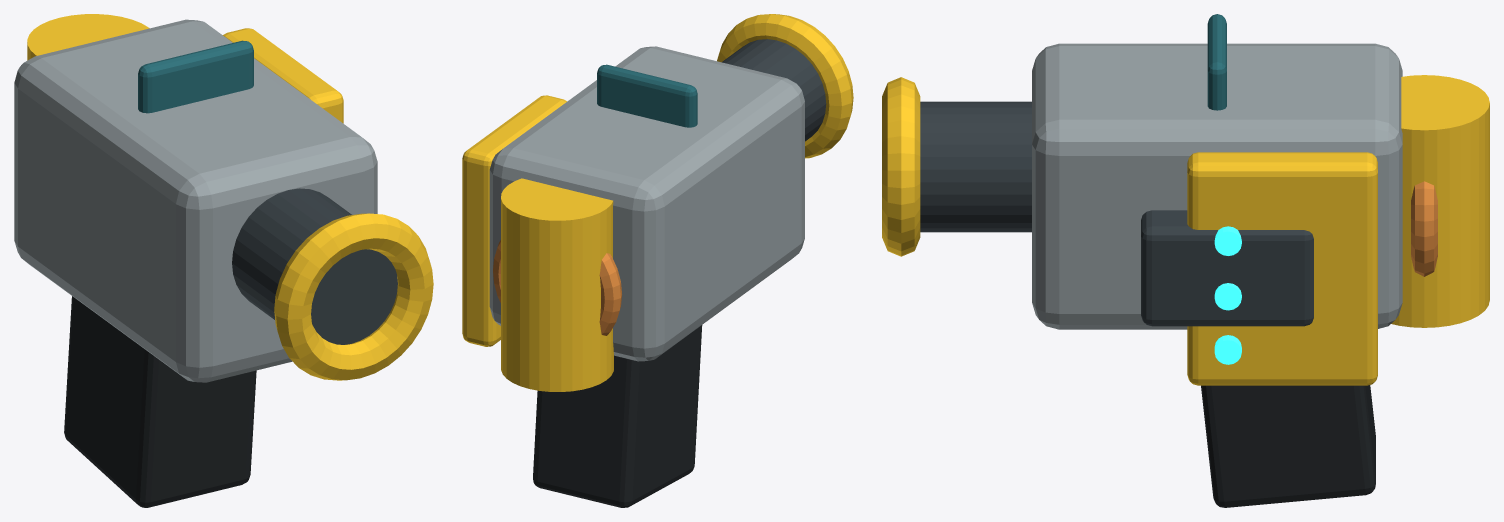
The model's file is color_gun_variant_b.glb.
The picture shows the model from 3 angles, left to right: view 1: azimuth 30°, elevation 25°; view 2: azimuth 150°, elevation 25°; view 3: azimuth 270°, elevation 25°; orthographic projection. The views are drawn at different scales.
Visible parts, largest first — view 1: Tool body, Tool grip, Emitter rim, Tool barrel, Top display, Color cartridge, Reinforced side armor; view 2: Tool body, Color cartridge, Tool grip, Reinforced side armor, Emitter rim, Top display, Tool barrel, Cartridge ring; view 3: Tool body, Reinforced side armor, Tool grip, Color cartridge, Side module, Tool barrel, Emitter rim, Cartridge ring, Top display, Status indicator, Status indicator.002.
Boxes of the visible parts, x1,y1,x2,y2 form: Tool body: (14, 19, 377, 382); Tool grip: (64, 296, 256, 507); Emitter rim: (274, 213, 433, 380); Tool barrel: (232, 188, 397, 344); Top display: (138, 40, 253, 113); Color cartridge: (27, 14, 149, 60); Reinforced side armor: (223, 28, 343, 123); Tool body: (489, 46, 804, 361); Color cartridge: (501, 178, 613, 391); Tool grip: (533, 325, 702, 507); Reinforced side armor: (462, 95, 566, 346); Emitter rim: (717, 14, 853, 158); Top display: (597, 64, 697, 127); Tool barrel: (722, 39, 826, 141); Cartridge ring: (493, 240, 621, 335); Tool body: (1032, 43, 1402, 329); Reinforced side armor: (1187, 152, 1377, 385); Tool grip: (1201, 385, 1375, 507); Color cartridge: (1391, 75, 1489, 327); Side module: (1141, 210, 1313, 326); Tool barrel: (920, 101, 1031, 232); Emitter rim: (882, 77, 920, 256); Cartridge ring: (1411, 181, 1437, 276); Top display: (1207, 14, 1226, 110); Status indicator: (1214, 335, 1241, 364); Status indicator.002: (1214, 226, 1241, 255).
Size of what is drawn, in the model's own units: 0.5225 by 0.9018 by 1.11.
